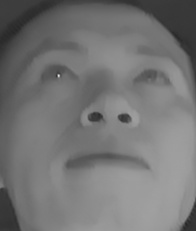eye: (34, 57, 81, 90), (132, 63, 173, 94)
mouth: (64, 138, 156, 182)
